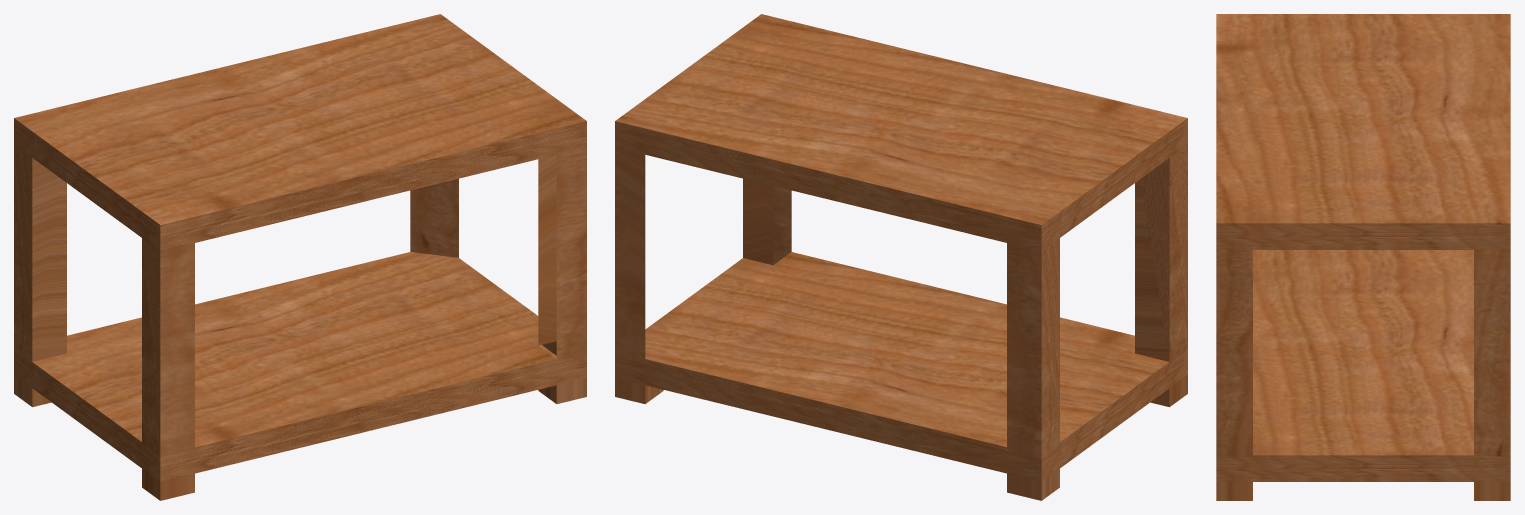
File: estante.glb
3 renders of one model, left to right at view 1: azimuth 30°, elevation 25°; view 2: azimuth 150°, elevation 25°; view 3: azimuth 270°, elevation 25°, orthographic.
Parts seen in each view (by area): view 1: Estante; view 2: Estante; view 3: Estante.
Part boxes in pixels (box(x1,y1,x2,y2)): Estante: box(14, 14, 586, 500); Estante: box(615, 14, 1187, 500); Estante: box(1216, 14, 1510, 500).
Size of the model in its own units: 1.66 by 1.02 by 0.9845.
Materials: 1 (1 with a texture image).
